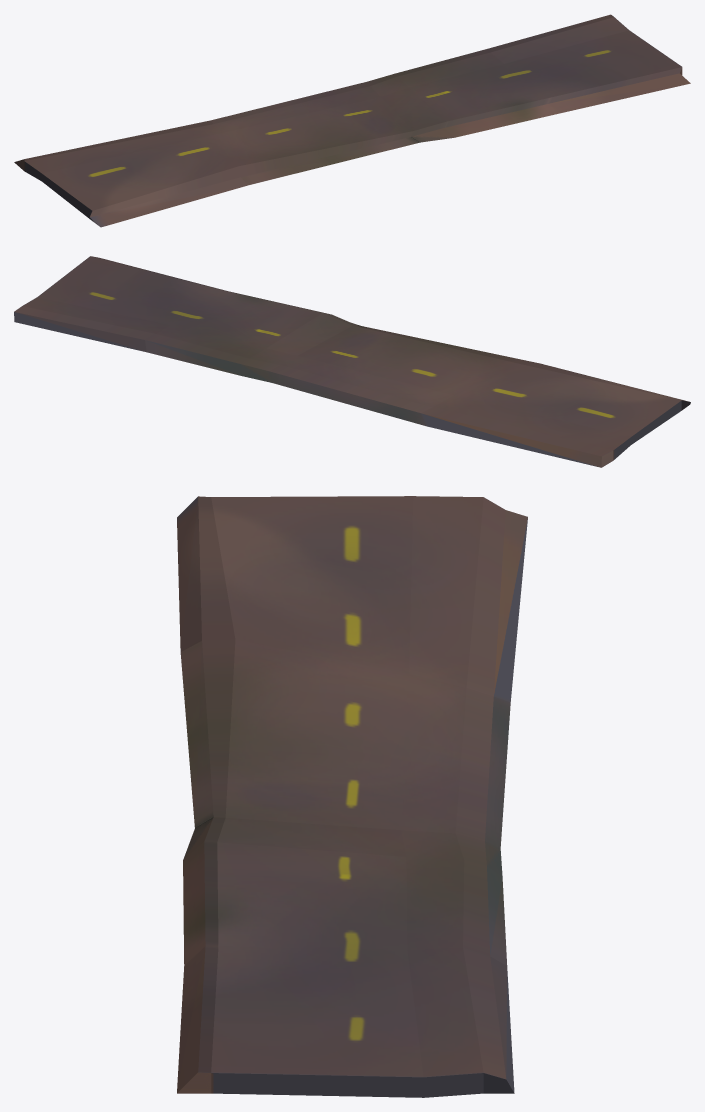
The model's file is road.glb.
3 views of the same model, one above another, from view 1: azimuth 30°, elevation 25°; view 2: azimuth 150°, elevation 25°; view 3: azimuth 270°, elevation 25° (orthographic). The views are drawn at different scales.
Parts seen in each view (by area): view 1: Cube; view 2: Cube; view 3: Cube.
Part boxes in pixels (box(x1,y1,x2,y2)): Cube: box(14, 14, 690, 227); Cube: box(14, 256, 690, 467); Cube: box(177, 496, 527, 1097).
Bounding box in the file's own units: 60.85 × 1.75 × 15.47.
1 material, 1 textured.
